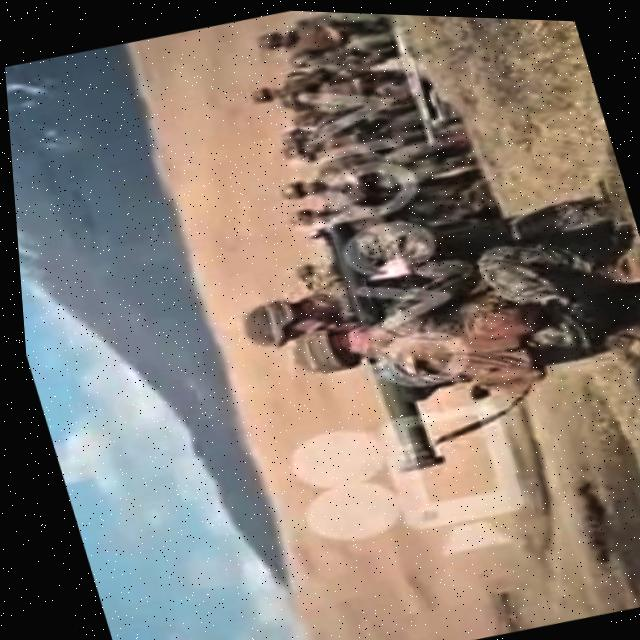rocket: (309, 213, 436, 474)
